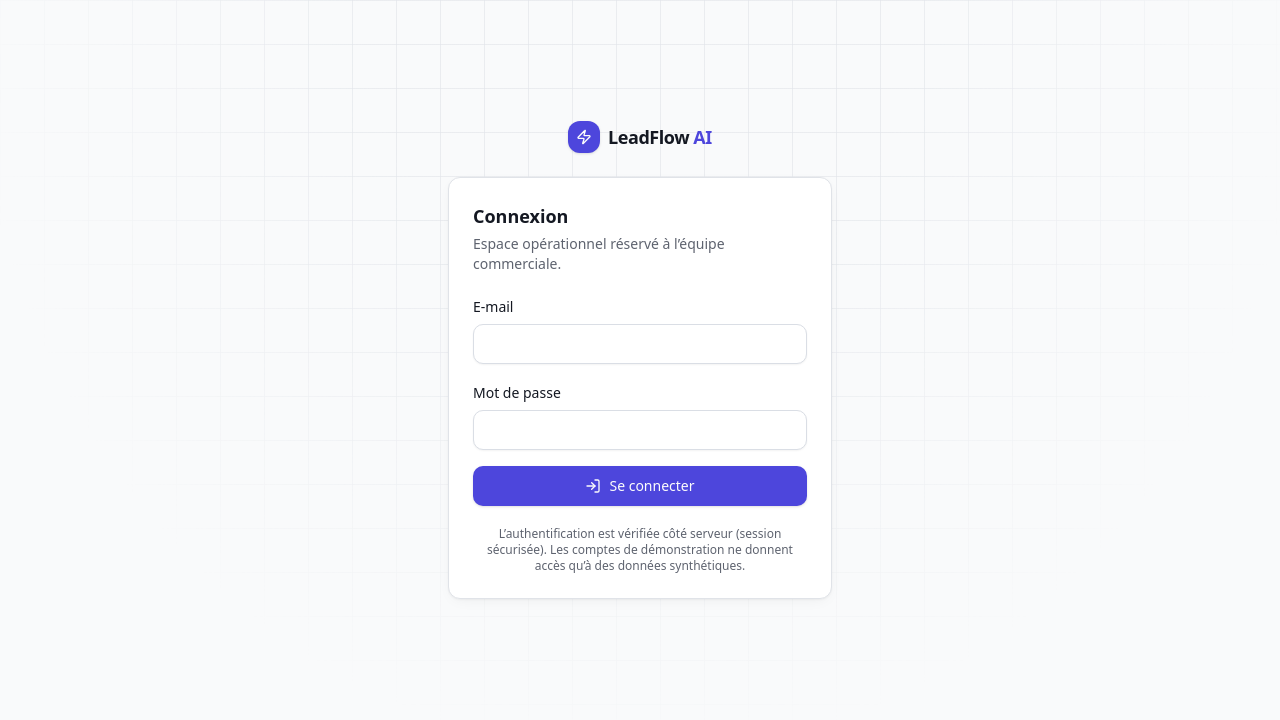
Test: Navigation et accès › connexion réussie : stocke le CSRF en mémoire et redirige vers la page demandée
This screenshot has width=1280, height=720.
Expected: the heading "Connexion" is shown, [473,204,568,228]
Type "sales@novadigital.example" into the field labelled "E-mail" at (640, 344), box [473,324,807,364]
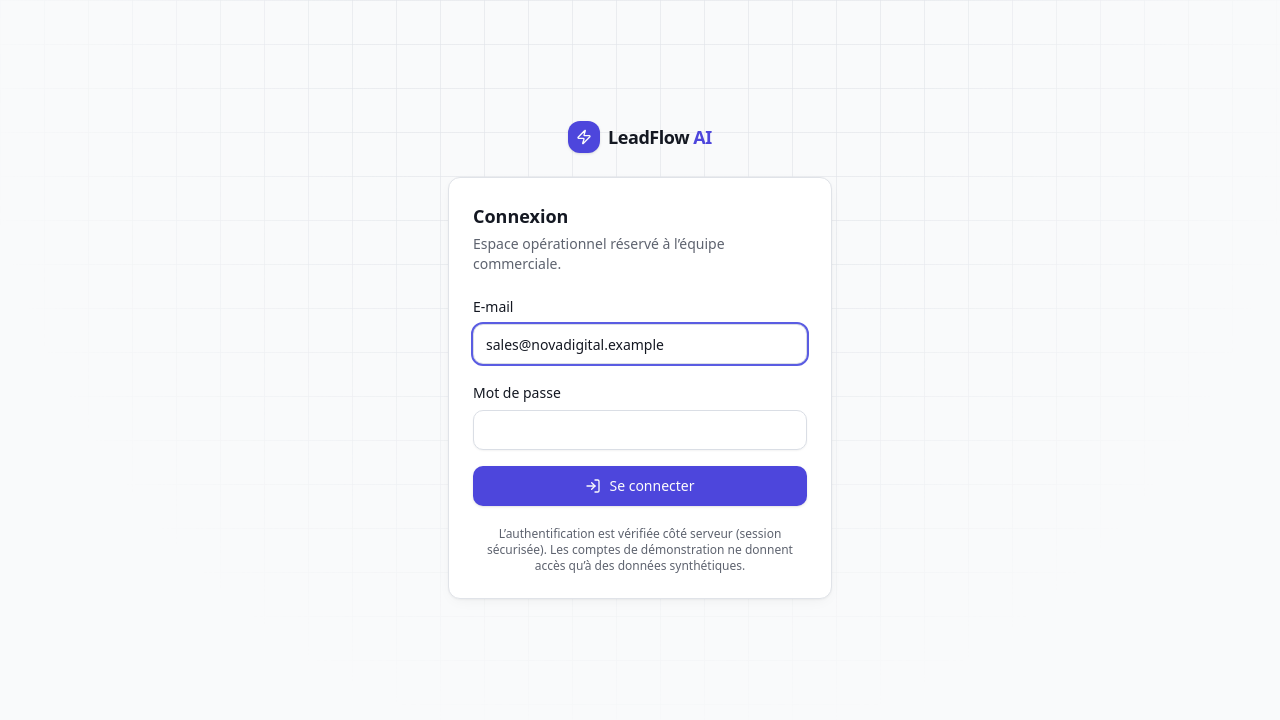
Type "secret-pass" into the password field labelled "Mot de passe" at (640, 430), box [473,410,807,450]
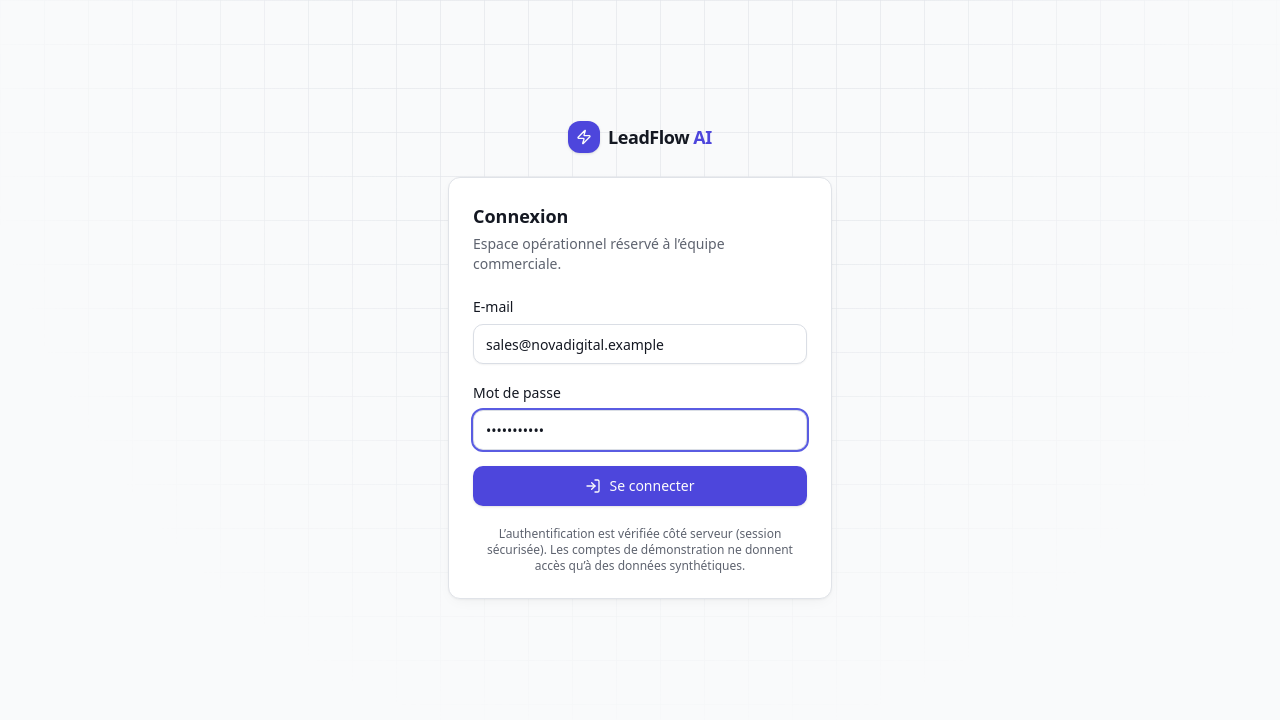
Click the button "Se connecter" at (640, 486), box [473,466,807,506]
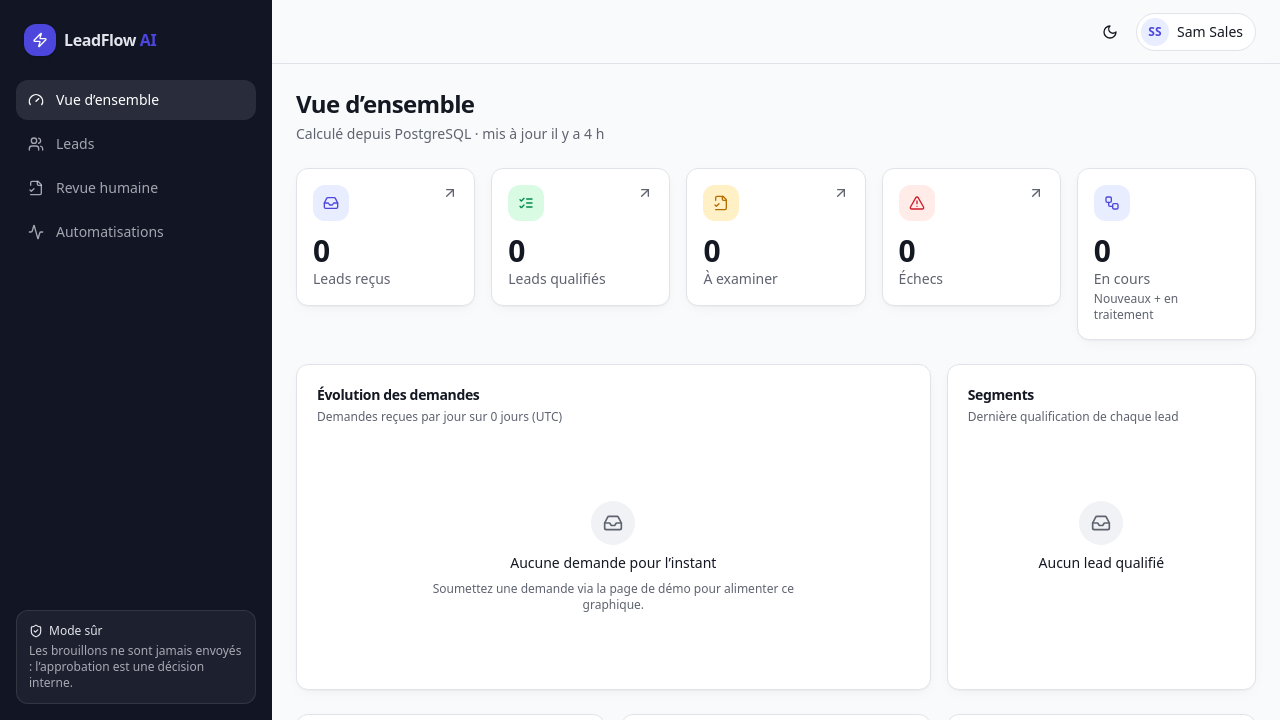
Expected: the heading "Vue d’ensemble" is shown, [296,87,474,120]
